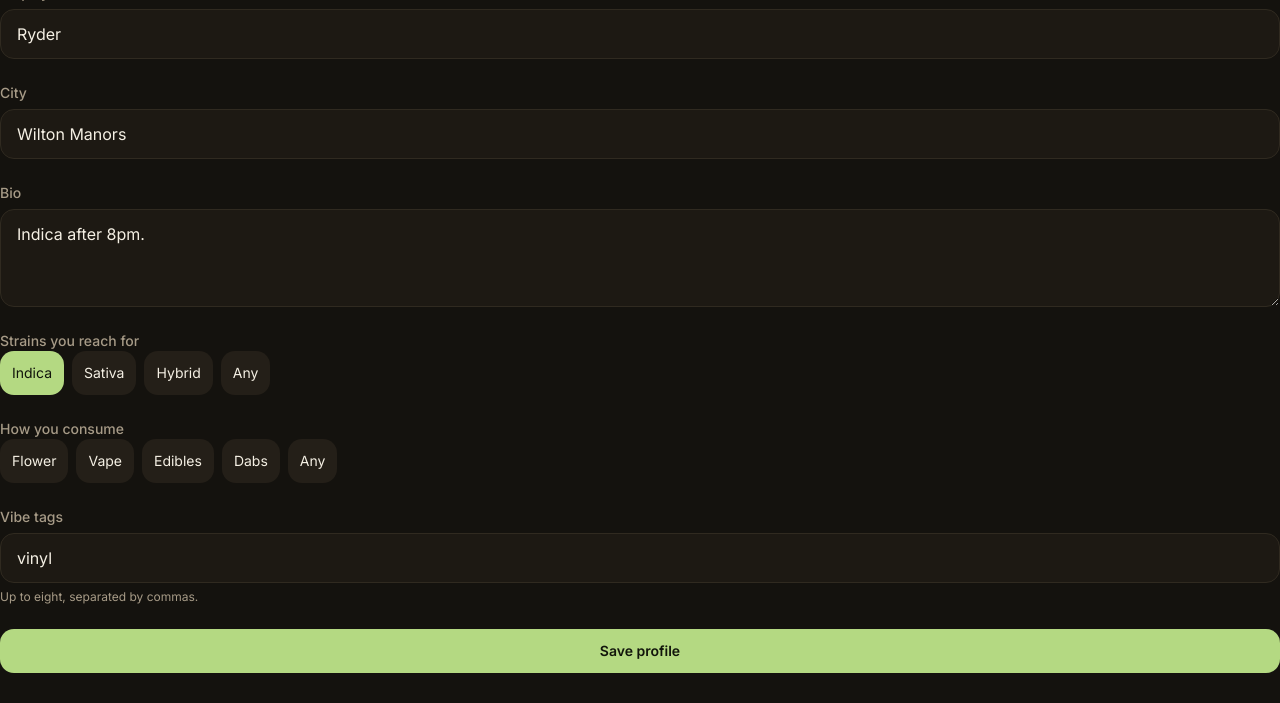
Scenario: EditProfileForm (issue #65) › puts a field's error under that field
This screenshot has width=1280, height=703.
Click the button "Save profile". click: [640, 651]
box: [0,629,1279,673]
(page scrolled)
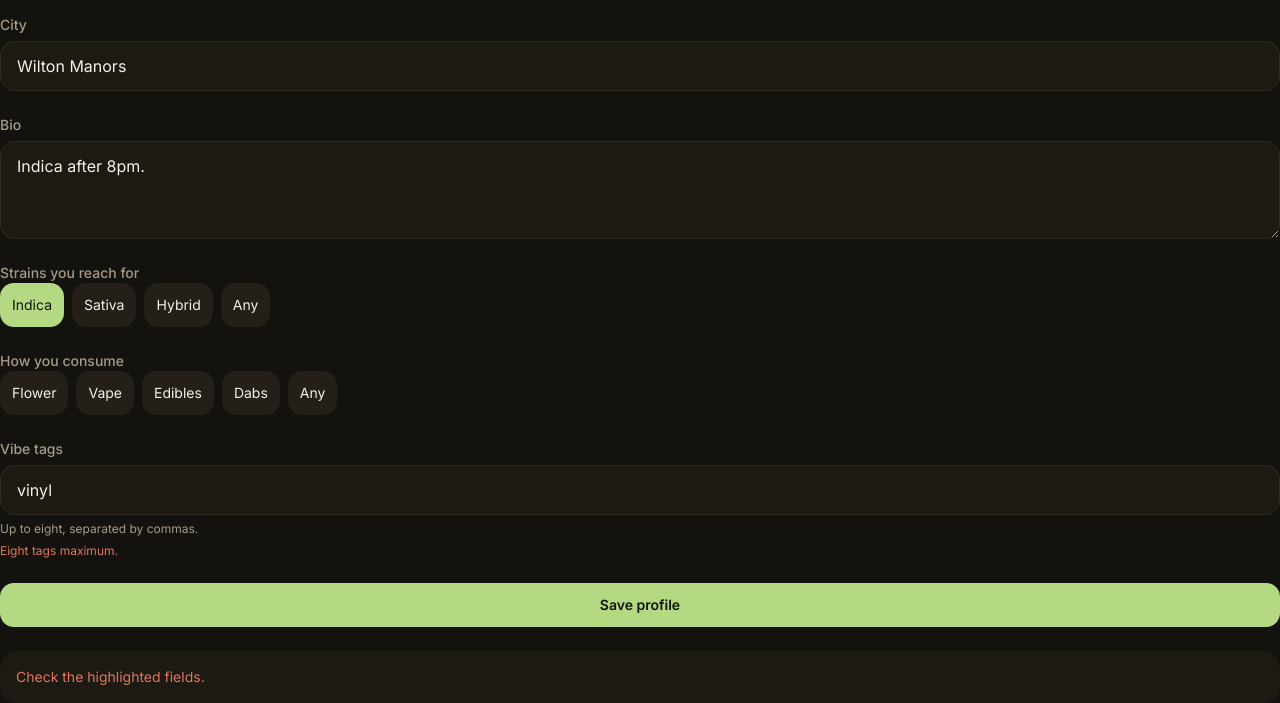
Expected: the message "Eight tags maximum." is shown, [0,543,118,558]
Expected: the message "Check the highlighted fields." is shown, [0,651,1279,702]
